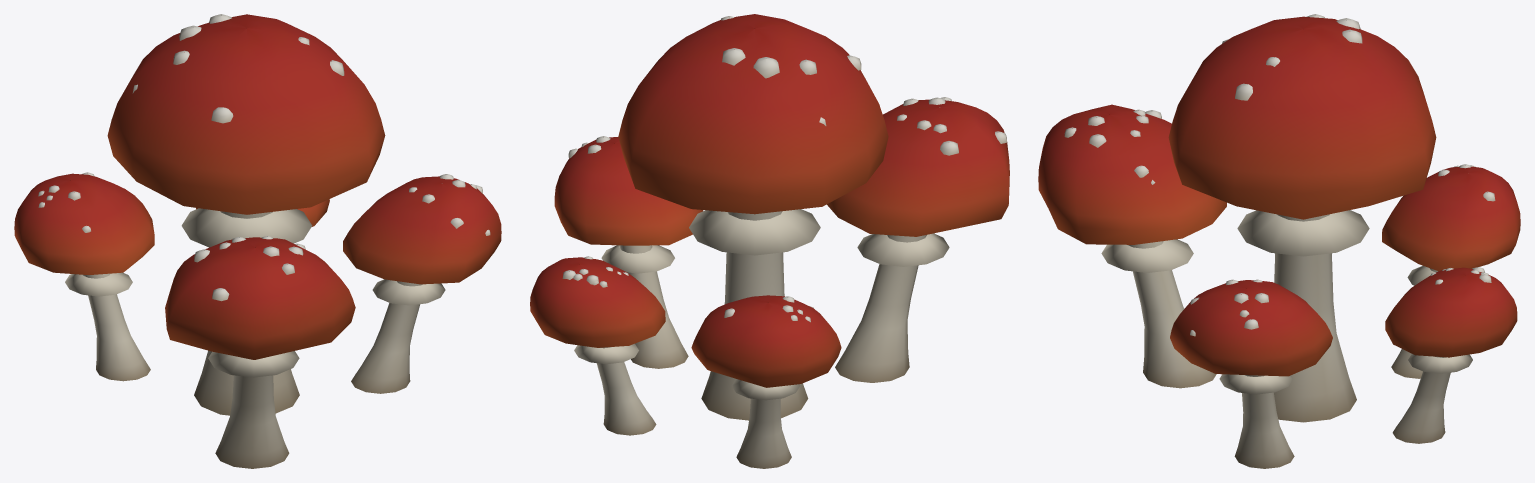
The model's file is mushroom-amanita-cluster.glb.
3 renders of one model, left to right at view 1: azimuth 30°, elevation 25°; view 2: azimuth 150°, elevation 25°; view 3: azimuth 270°, elevation 25°, orthographic.
Visible parts, largest first — view 1: mushroom-amanita-cluster; view 2: mushroom-amanita-cluster; view 3: mushroom-amanita-cluster.
Boxes of the visible parts, box(x1,y1,x2,y2) form: mushroom-amanita-cluster: box(14, 14, 501, 468); mushroom-amanita-cluster: box(530, 14, 1009, 468); mushroom-amanita-cluster: box(1038, 14, 1520, 468).
Bounding box in the file's own units: 0.2725 × 0.25 × 0.2946.
